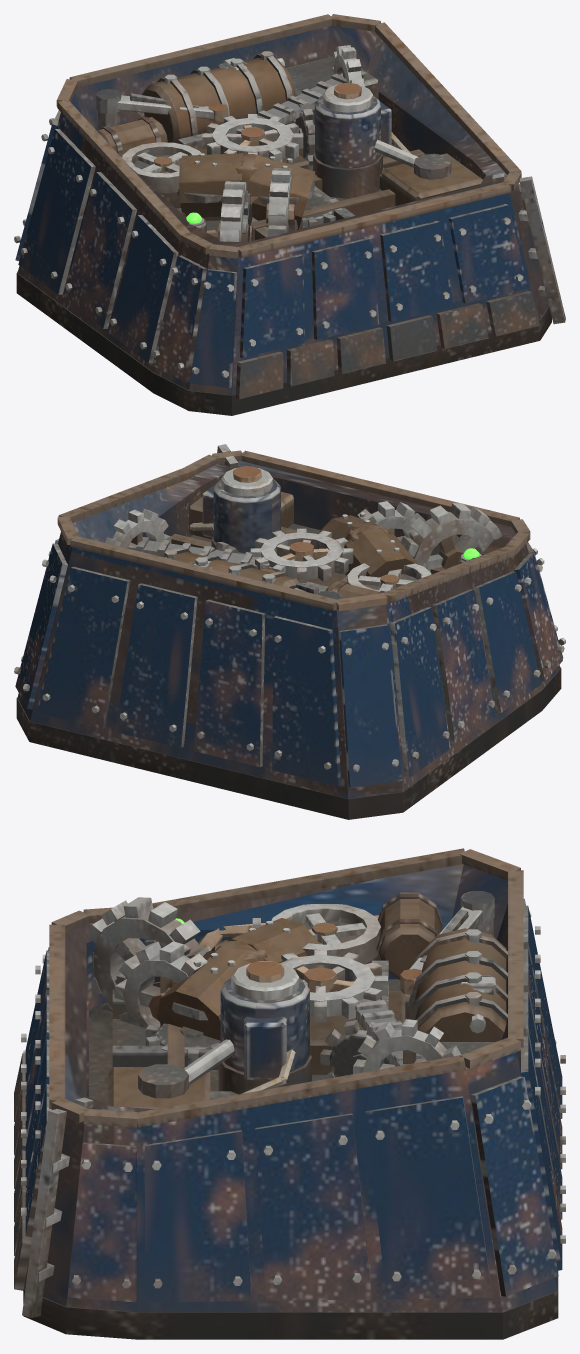
File: assembling-machine-2.glb
3 views of the same model, one above another, from view 1: azimuth 30°, elevation 25°; view 2: azimuth 150°, elevation 25°; view 3: azimuth 270°, elevation 25° (orthographic). The views are drawn at different scales.
Parts seen in each view (by area): view 1: body, anim_am2_press_e, anim_am2_gear_c, anim_am2_arm_nw, anim_am2_gear_swb, anim_am2_gear_swa, anim_am2_sprocket_ne, anim_am2_fan_w, anim_am2_piston_se; view 2: body, anim_am2_press_e, anim_am2_gear_swa, anim_am2_gear_c, anim_am2_sprocket_ne, anim_am2_gear_swb, anim_am2_fan_w; view 3: body, anim_am2_press_e, anim_am2_gear_swa, anim_am2_gear_c, anim_am2_gear_swb, anim_am2_sprocket_ne, anim_am2_arm_nw, anim_am2_fan_w, anim_am2_piston_se, anim_am2_bar_n.
Part boxes in pixels (x1,y1,x2,y2): body: (14, 14, 565, 415); anim_am2_press_e: (315, 82, 391, 168); anim_am2_gear_c: (202, 114, 303, 161); anim_am2_arm_nw: (96, 89, 227, 122); anim_am2_gear_swb: (266, 168, 295, 236); anim_am2_gear_swa: (218, 181, 249, 242); anim_am2_sprocket_ne: (332, 45, 364, 86); anim_am2_fan_w: (137, 152, 187, 172); anim_am2_piston_se: (374, 139, 418, 167); body: (14, 444, 565, 819); anim_am2_press_e: (202, 466, 280, 553); anim_am2_gear_swa: (401, 503, 502, 571); anim_am2_gear_c: (250, 528, 353, 582); anim_am2_sprocket_ne: (105, 509, 171, 547); anim_am2_gear_swb: (357, 501, 425, 541); anim_am2_fan_w: (358, 569, 414, 591); body: (14, 848, 565, 1339); anim_am2_press_e: (220, 961, 309, 1080); anim_am2_gear_swa: (86, 897, 210, 1012); anim_am2_gear_c: (280, 950, 387, 1022); anim_am2_gear_swb: (114, 941, 207, 1028); anim_am2_sprocket_ne: (353, 1019, 460, 1073); anim_am2_arm_nw: (400, 891, 494, 994); anim_am2_fan_w: (305, 913, 366, 944); anim_am2_piston_se: (184, 1039, 234, 1085); anim_am2_bar_n: (460, 975, 495, 1033).
Bounding box in the file's own units: 2.82 × 1.46 × 2.6.
Materials: 2 (2 with a texture image).
